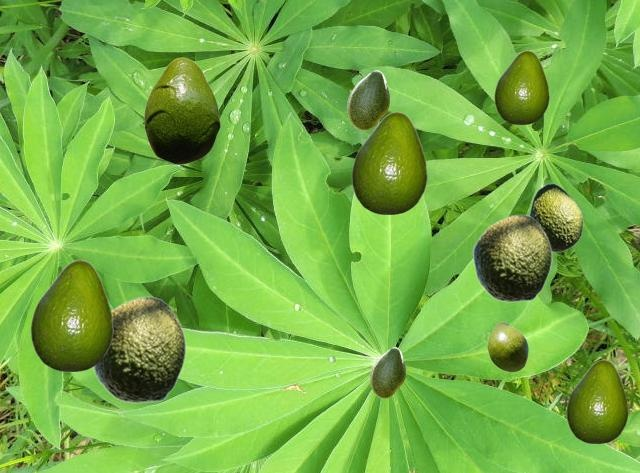avocado: (92, 296, 185, 402), (30, 259, 112, 370), (144, 57, 219, 163), (351, 111, 426, 213), (472, 214, 551, 301), (566, 359, 627, 442), (494, 50, 548, 123), (529, 183, 582, 251), (347, 70, 388, 129), (487, 321, 527, 371), (370, 347, 404, 397)
